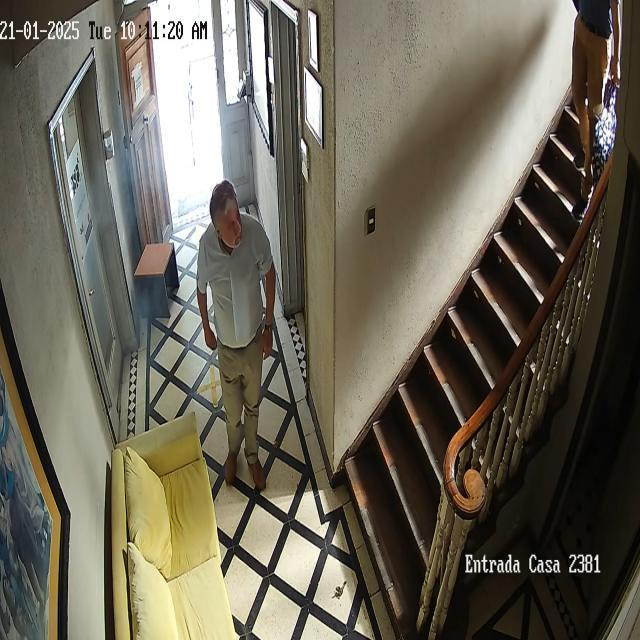fire: (75, 131, 172, 223)
